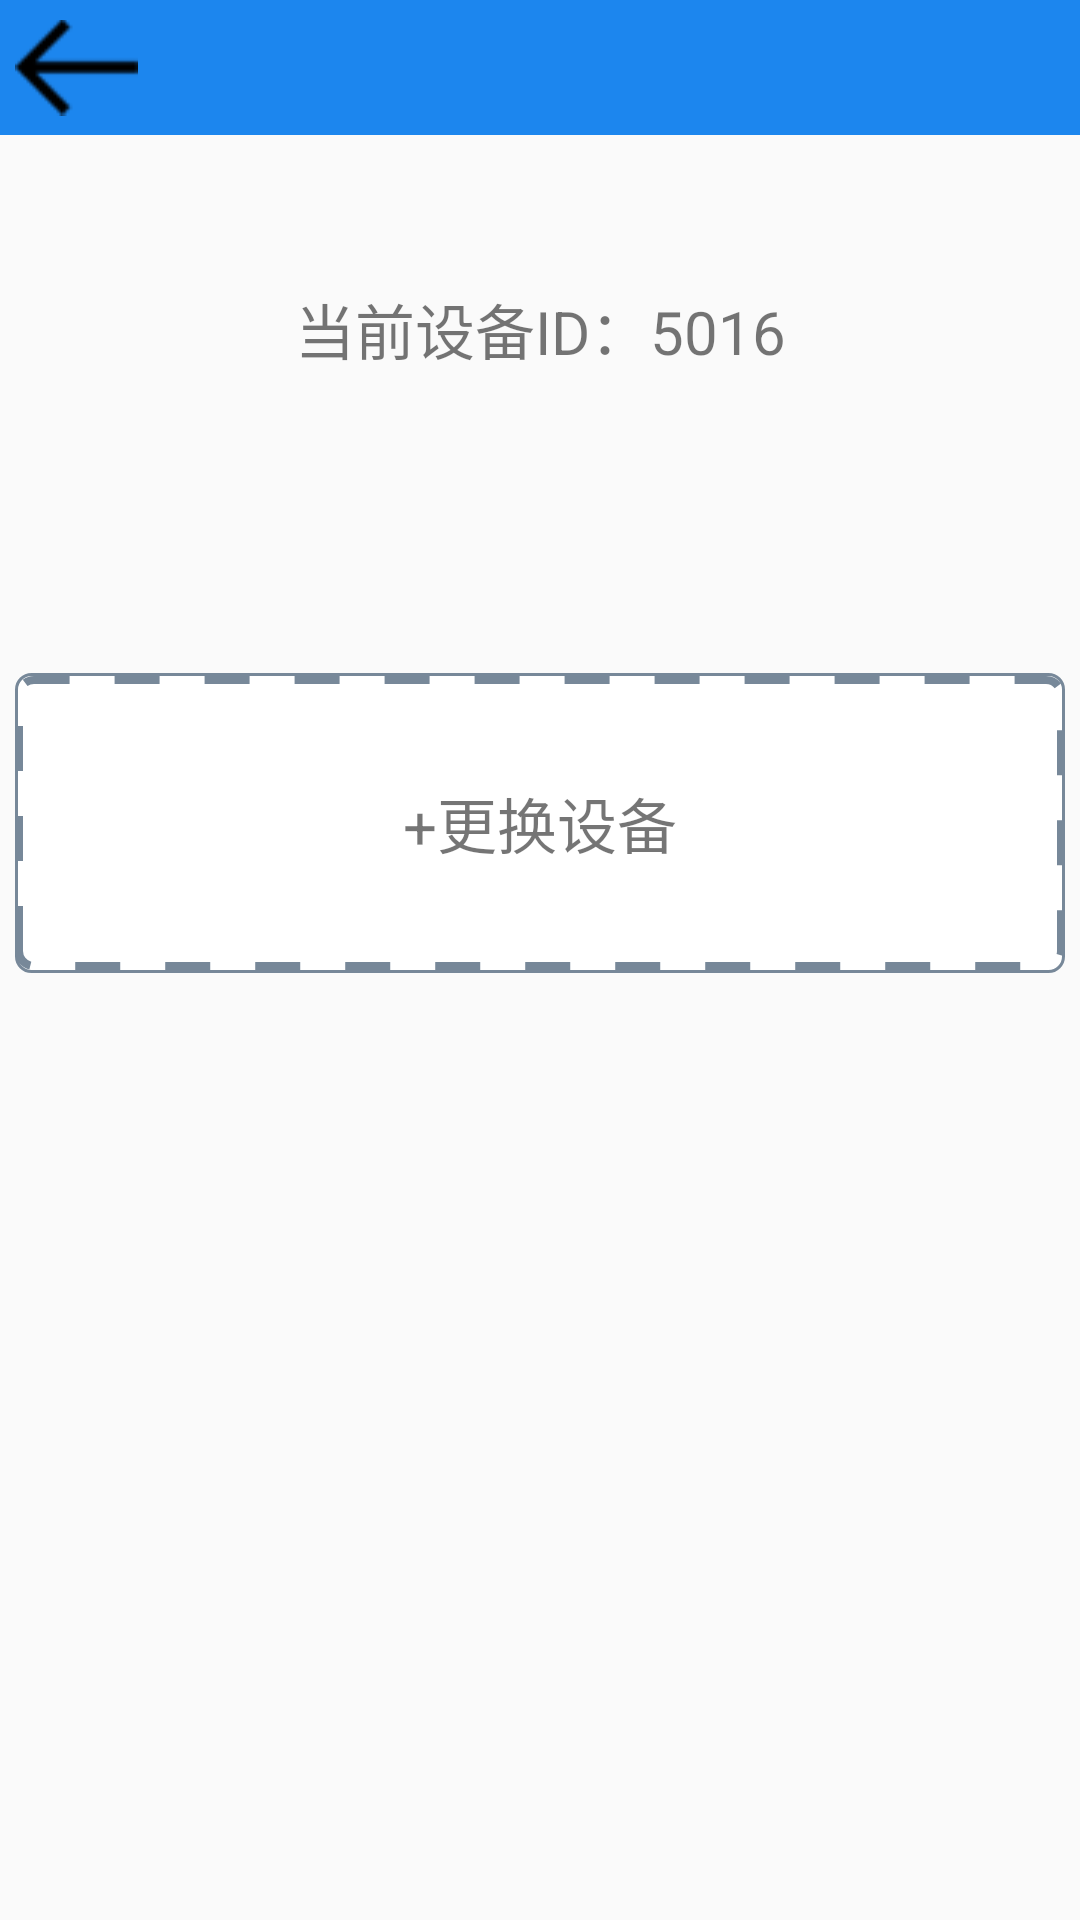

Point at icon controls on the screen. Image size 1080×1920, points as [x,y].
left arrow: [76,68]
